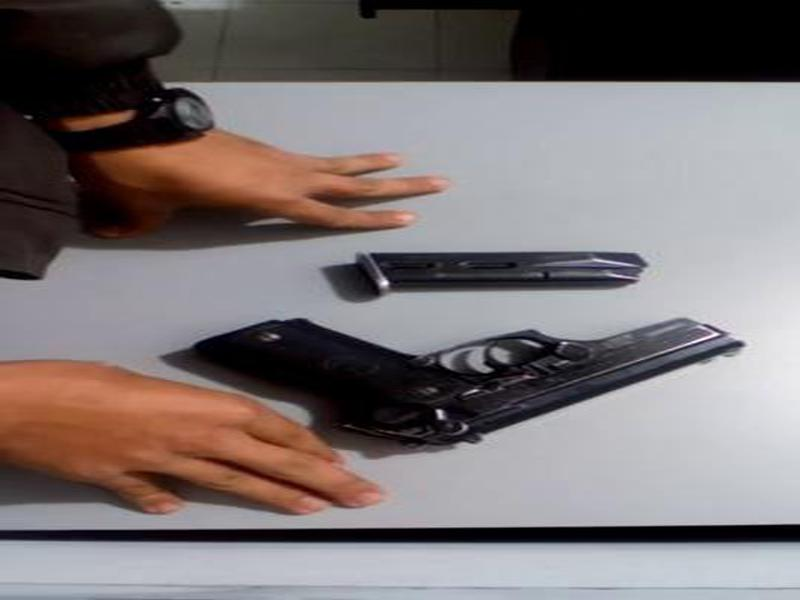Pistola: (187, 285, 773, 438)
